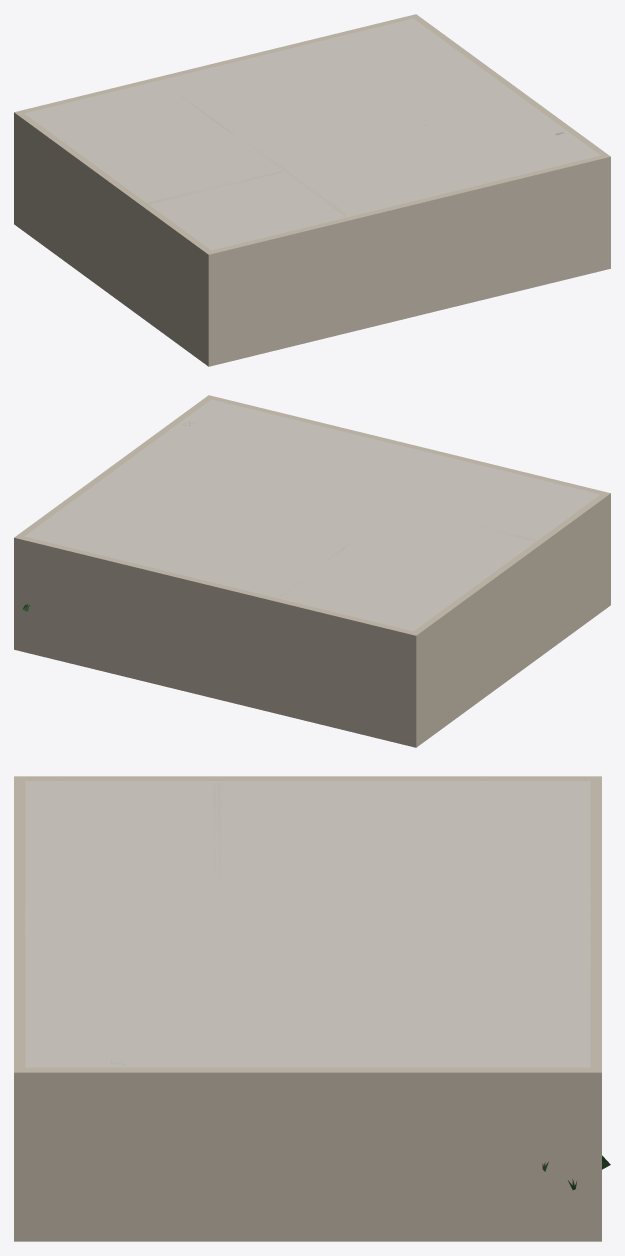
The model's file is int_suite_family.glb.
The picture shows the model from 3 angles, top to bottom: view 1: azimuth 30°, elevation 25°; view 2: azimuth 150°, elevation 25°; view 3: azimuth 270°, elevation 25°; orthographic projection. The views are drawn at different scales.
Visible parts, largest first — view 1: int_suite_family; view 2: int_suite_family; view 3: int_suite_family.
Part boxes in pixels (x1=…): int_suite_family: x1=14, y1=14, x2=610, y2=366; int_suite_family: x1=14, y1=395, x2=610, y2=747; int_suite_family: x1=14, y1=776, x2=610, y2=1241.
Size of the model in its own units: 12.61 by 3.3 by 10.56.
